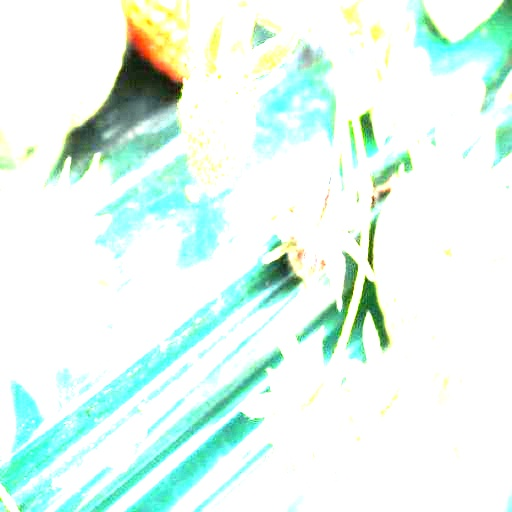Gray Mold: (259, 145, 377, 311)
